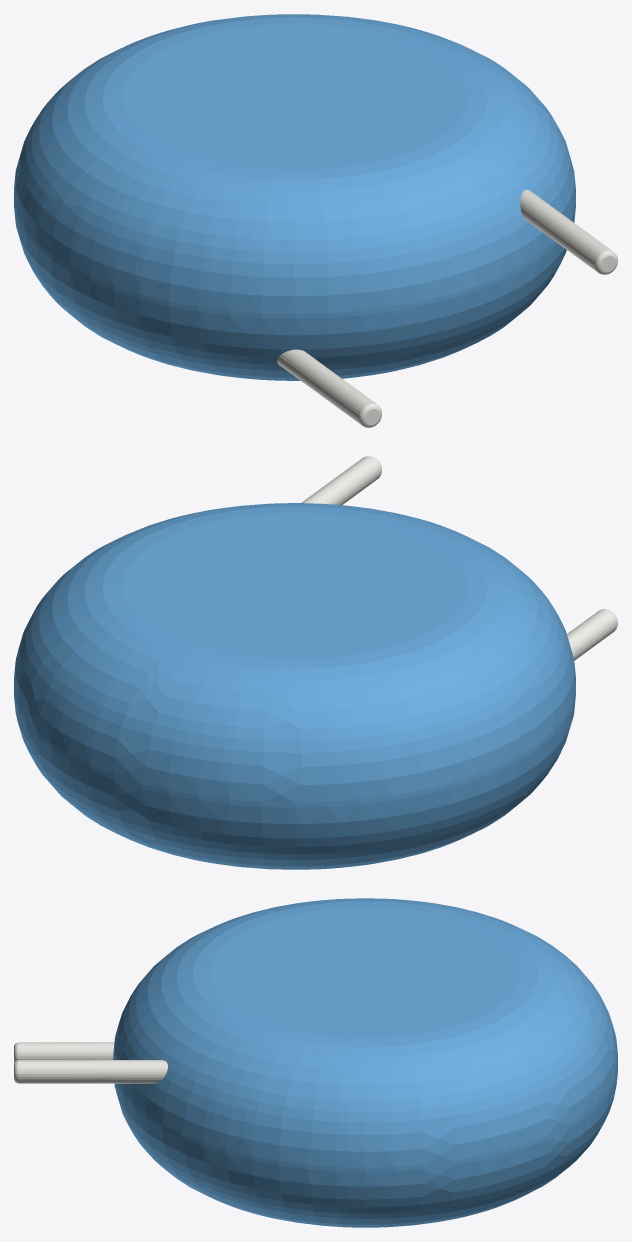
File: RV_Disc_D15.5mm_W6.1mm_P7.5mm.glb
The picture shows the model from 3 angles, top to bottom: view 1: azimuth 30°, elevation 25°; view 2: azimuth 150°, elevation 25°; view 3: azimuth 270°, elevation 25°; orthographic projection. The views are drawn at different scales.
Parts seen in each view (by area): view 1: Shape_IndexedFaceSet.001, Shape_IndexedFaceSet.003, Shape_IndexedFaceSet.002, Shape_IndexedFaceSet, Shape_IndexedFaceSet.004, Shape_IndexedFaceSet.006; view 2: Shape_IndexedFaceSet.001, Shape_IndexedFaceSet.003, Shape_IndexedFaceSet.002, Shape_IndexedFaceSet, Shape_IndexedFaceSet.004, Shape_IndexedFaceSet.006; view 3: Shape_IndexedFaceSet.001, Shape_IndexedFaceSet.003, Shape_IndexedFaceSet.002, Shape_IndexedFaceSet.004, Shape_IndexedFaceSet, Shape_IndexedFaceSet.006.
Boxes of the visible parts, bbox=[...] form: Shape_IndexedFaceSet.001: bbox=[14, 14, 575, 313]; Shape_IndexedFaceSet.003: bbox=[122, 24, 468, 170]; Shape_IndexedFaceSet.002: bbox=[14, 207, 575, 380]; Shape_IndexedFaceSet: bbox=[14, 202, 575, 318]; Shape_IndexedFaceSet.004: bbox=[520, 189, 611, 271]; Shape_IndexedFaceSet.006: bbox=[277, 349, 375, 424]; Shape_IndexedFaceSet.001: bbox=[14, 503, 575, 802]; Shape_IndexedFaceSet.003: bbox=[121, 513, 467, 659]; Shape_IndexedFaceSet.002: bbox=[14, 696, 575, 869]; Shape_IndexedFaceSet: bbox=[14, 691, 575, 807]; Shape_IndexedFaceSet.004: bbox=[301, 456, 381, 504]; Shape_IndexedFaceSet.006: bbox=[567, 609, 617, 660]; Shape_IndexedFaceSet.001: bbox=[113, 898, 617, 1167]; Shape_IndexedFaceSet.003: bbox=[210, 907, 520, 1038]; Shape_IndexedFaceSet.002: bbox=[114, 1072, 617, 1227]; Shape_IndexedFaceSet.004: bbox=[18, 1060, 167, 1083]; Shape_IndexedFaceSet: bbox=[117, 1068, 617, 1171]; Shape_IndexedFaceSet.006: bbox=[18, 1042, 114, 1059].
Bounding box in the file's own units: 6.1 × 2.4 × 7.29.
